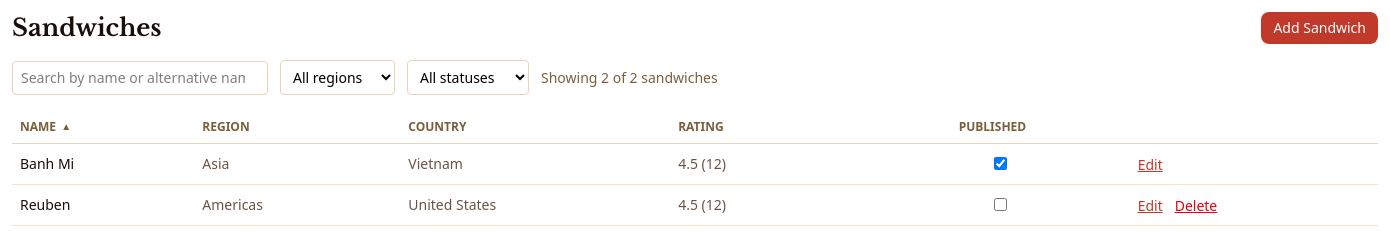
Test: DatabaseManagementPage deleting › deletes an entry after the admin confirms
The width and height of the screenshot is (1390, 243).
Expected: the text "Reuben" is shown, [12,184,194,226]
Click the button with aria-label "Delete Reuben" at (1196, 206), box [1175,196,1217,216]
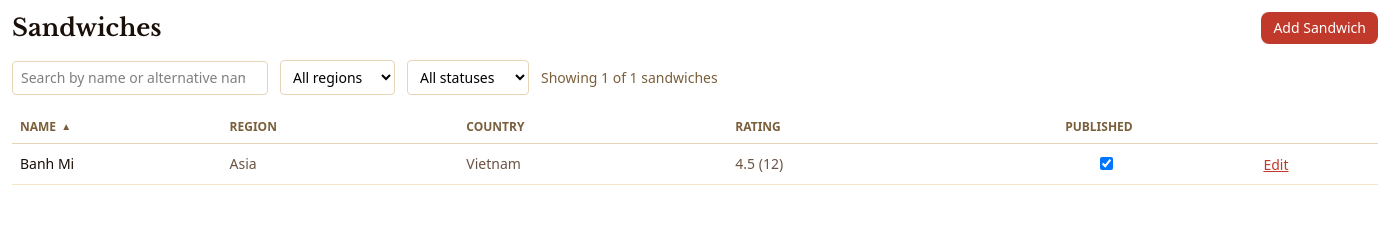
Expected: the text "Banh Mi" is shown, [12,144,222,184]
Result: the text "Reuben" is gone
